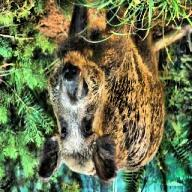boar: (37, 1, 166, 184)
